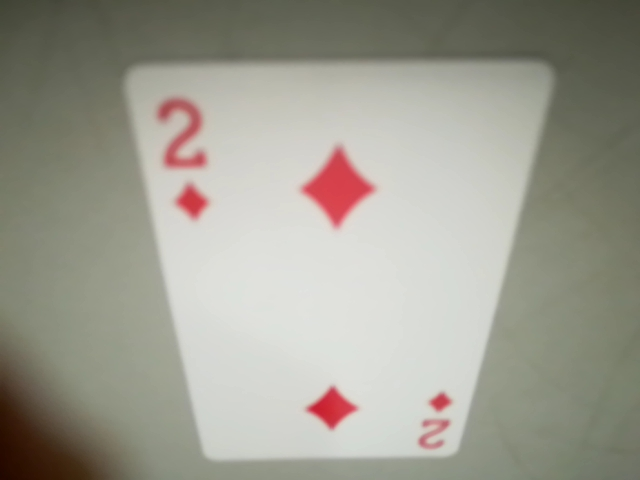fk 2: (137, 77, 212, 228), (410, 386, 460, 456)
